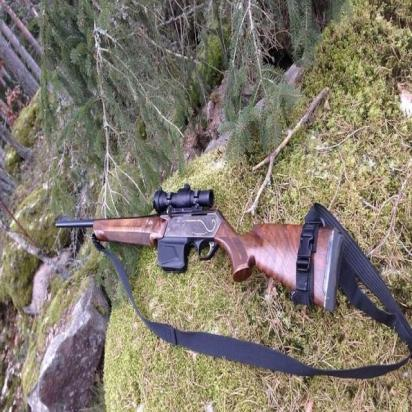Gun: (55, 179, 343, 318)
